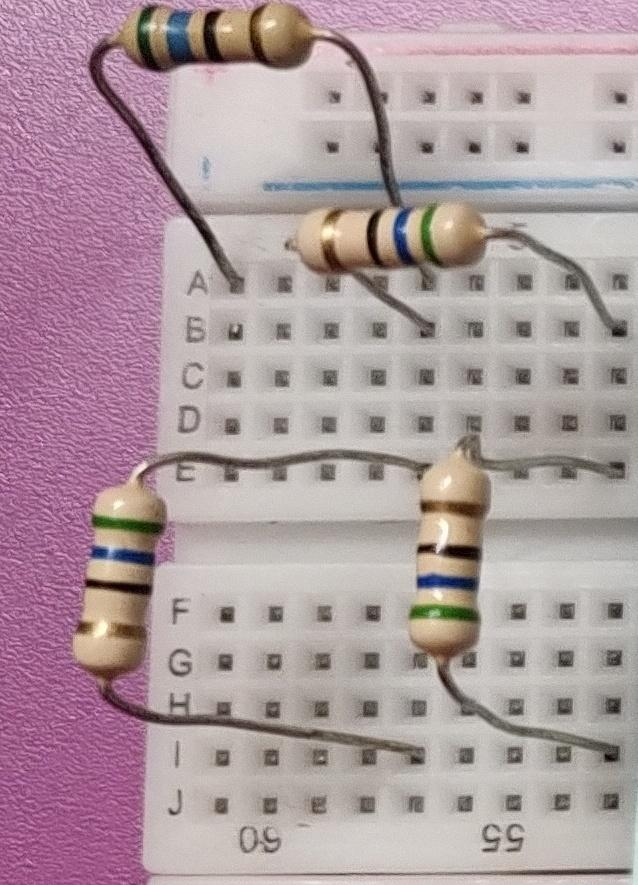resistor: (66, 463, 170, 694), (275, 188, 496, 292), (402, 438, 497, 679), (115, 0, 319, 94)
